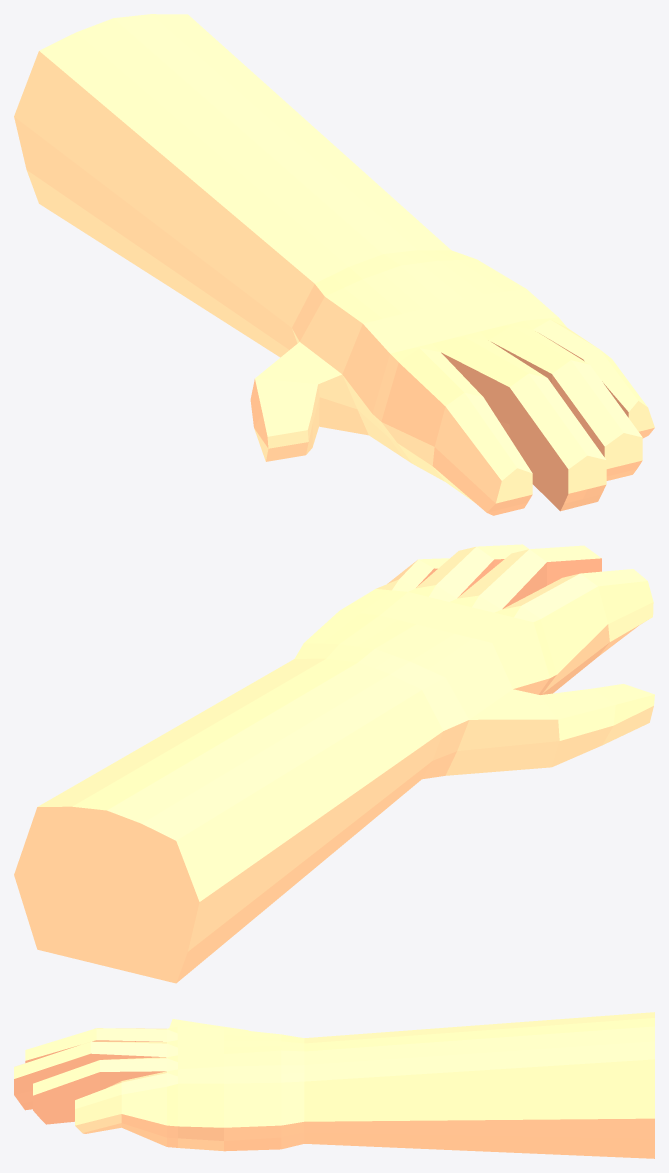
The model's file is arm.fbx.
The picture shows the model from 3 angles, top to bottom: view 1: azimuth 30°, elevation 25°; view 2: azimuth 150°, elevation 25°; view 3: azimuth 270°, elevation 25°; orthographic projection. The views are drawn at different scales.
Parts seen in each view (by area): view 1: Cube.086; view 2: Cube.086; view 3: Cube.086.
Boxes of the visible parts, left/top/right/bottom form: Cube.086: left=14, top=14, right=654, bottom=515; Cube.086: left=14, top=544, right=654, bottom=983; Cube.086: left=14, top=1012, right=654, bottom=1158.
Bounding box in the file's own units: 573 × 281 × 1498.
